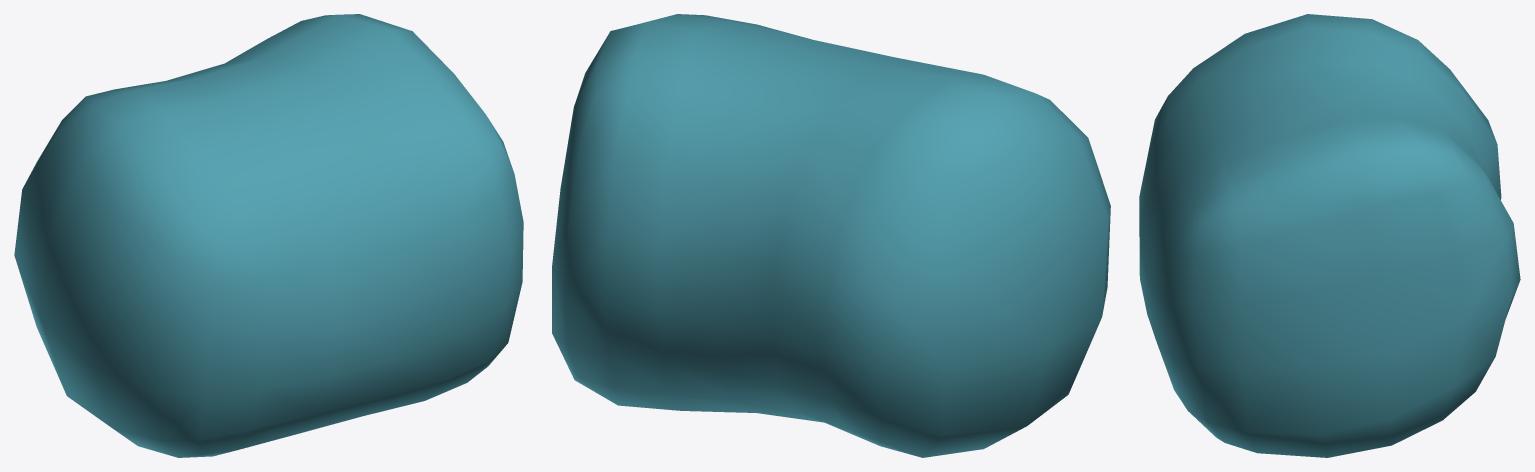
The model's file is VIS_Alpha_Surface_042.dae.
3 renders of one model, left to right at view 1: azimuth 30°, elevation 25°; view 2: azimuth 150°, elevation 25°; view 3: azimuth 270°, elevation 25°, orthographic. The views are drawn at different scales.
Parts seen in each view (by area): view 1: VIS_Alpha_Surface_042; view 2: VIS_Alpha_Surface_042; view 3: VIS_Alpha_Surface_042.
Part boxes in pixels (x1=…): VIS_Alpha_Surface_042: x1=14, y1=14, x2=523, y2=457; VIS_Alpha_Surface_042: x1=552, y1=14, x2=1110, y2=457; VIS_Alpha_Surface_042: x1=1139, y1=14, x2=1520, y2=457.
Bounding box in the file's own units: 2.84 × 2.31 × 2.1.
